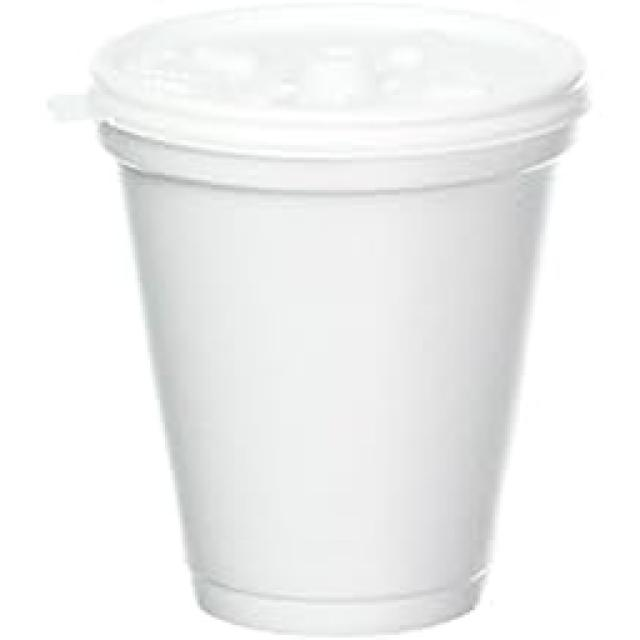styrofoam: (88, 2, 585, 632)
